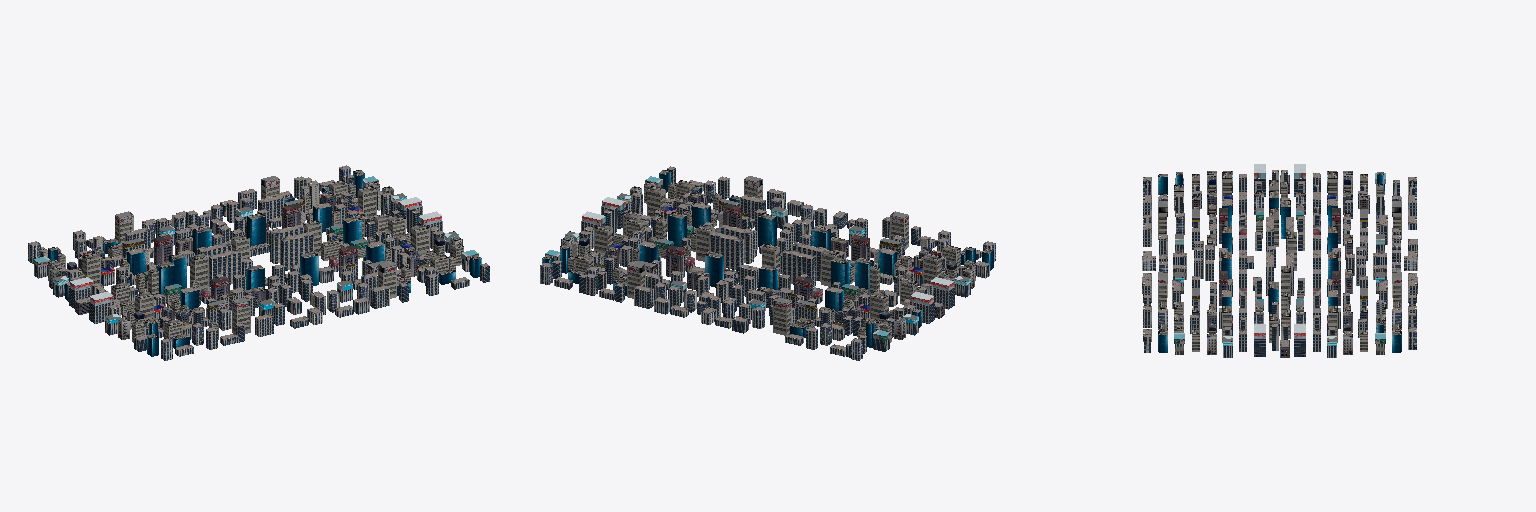
3 views of the same model, side by side, from view 1: azimuth 30°, elevation 25°; view 2: azimuth 150°, elevation 25°; view 3: azimuth 270°, elevation 25° (orthographic).
Bounding box in the file's own units: 1652 × 145 × 1119.
Materials: 1 (1 with a texture image).